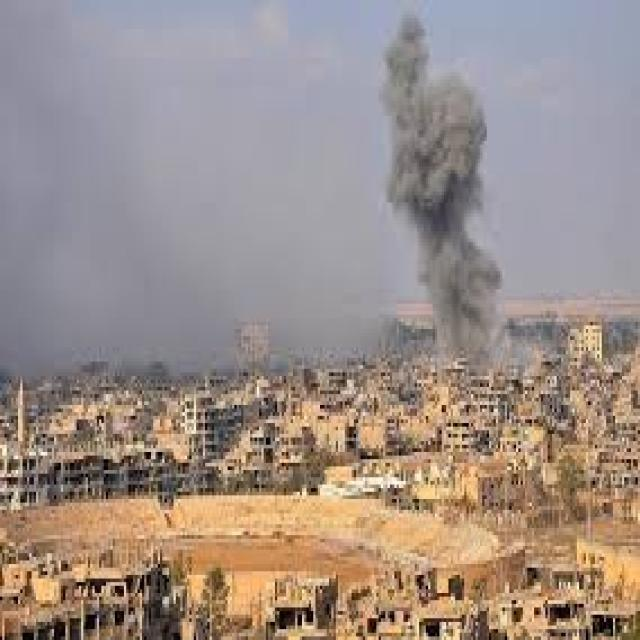Smoke: (0, 0, 390, 360), (380, 2, 508, 385)
